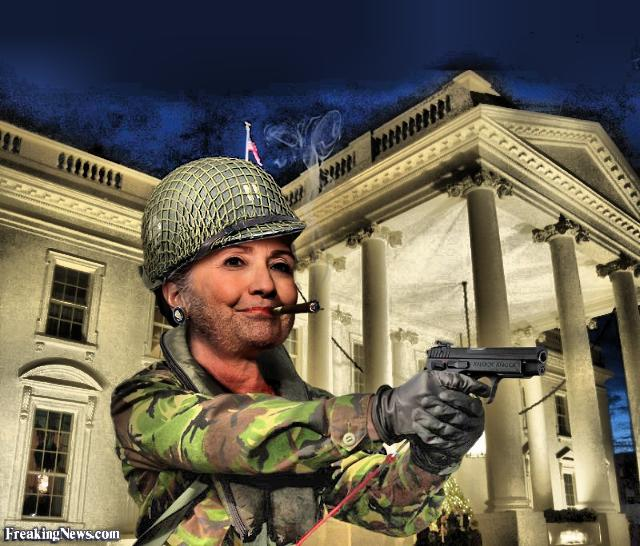pistol: (420, 344, 548, 442)
